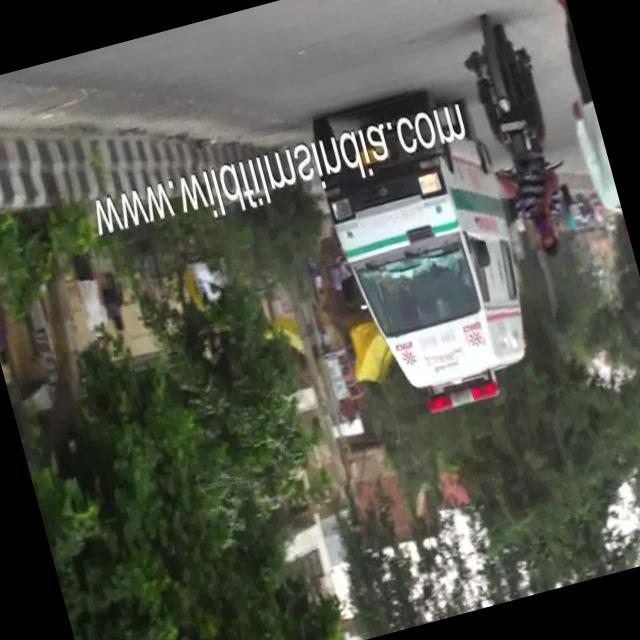ambulance: (320, 152, 554, 428)
